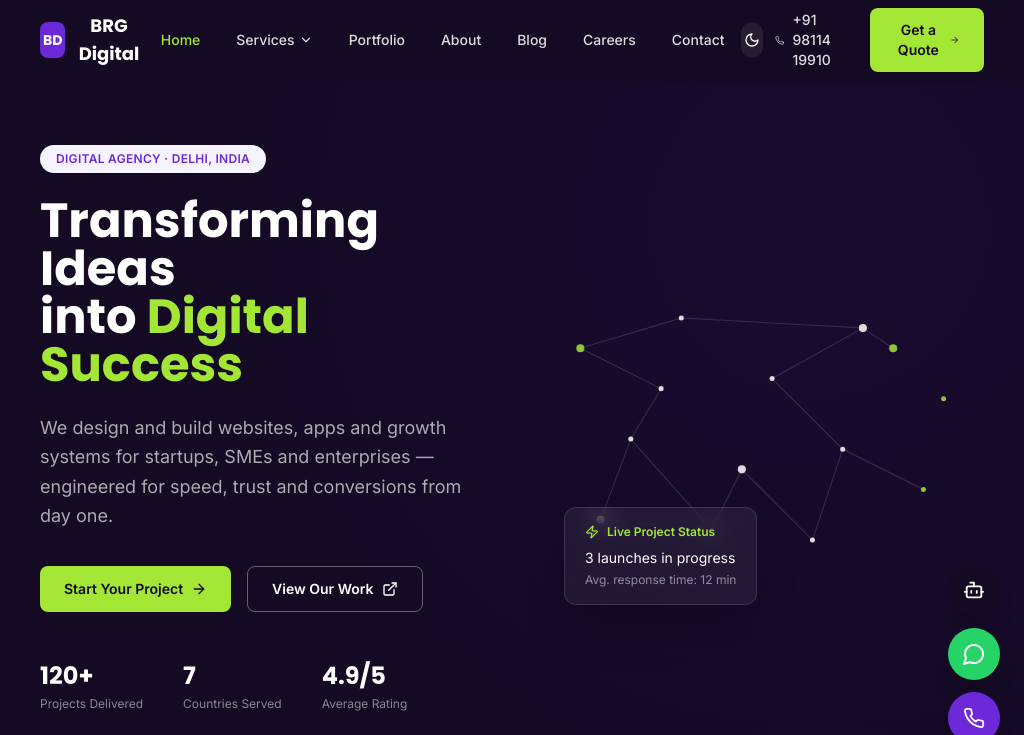
Contact form › submits successfully and shows a confirmation when the API succeeds
The width and height of the screenshot is (1024, 735).
Click the button "Contact" at (698, 40), box [656,22,741,58]
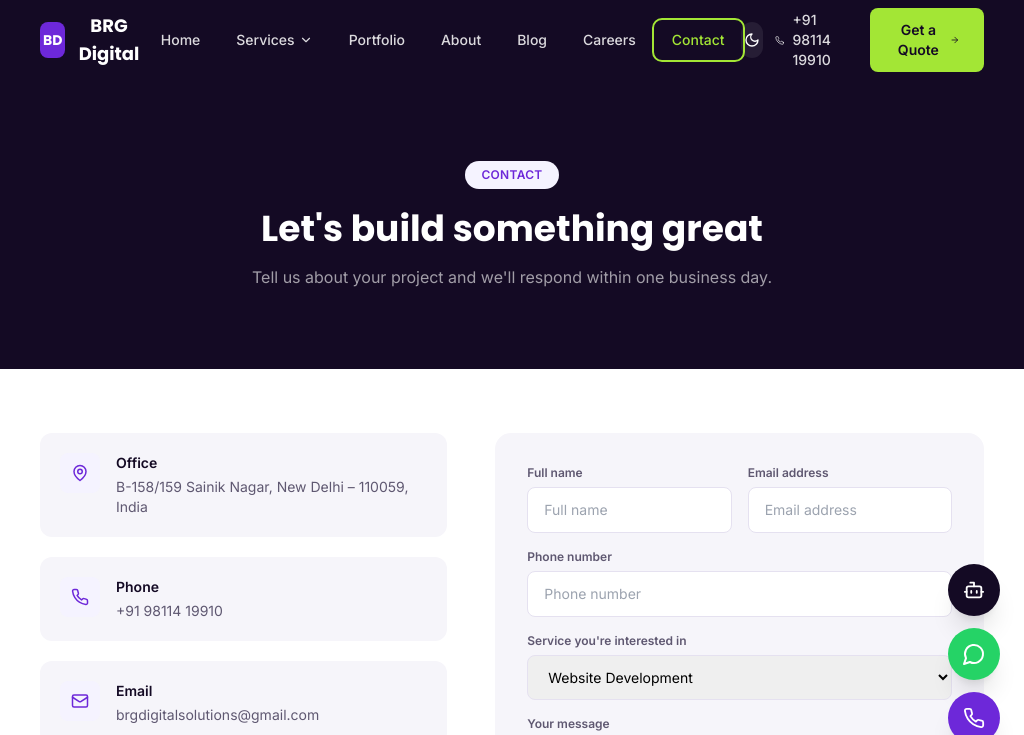
Type "Test User" into the field labelled "Full name" at (630, 510), box [527,487,732,533]
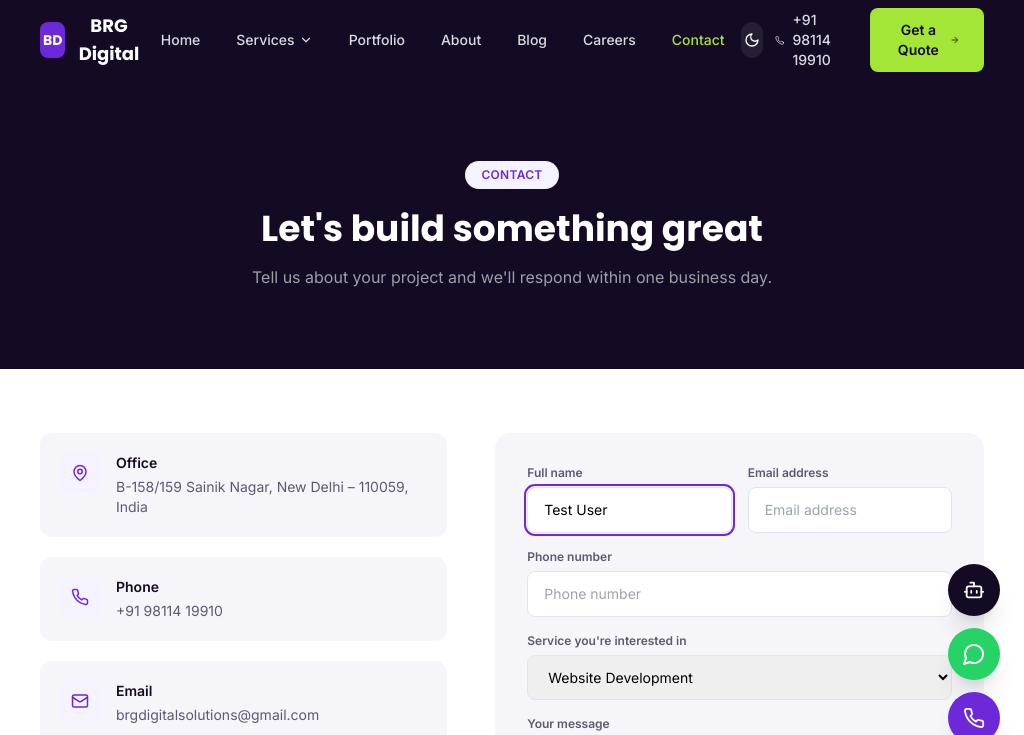
Type "test@example.com" into the field labelled "Email address" at (850, 510), box [748,487,952,533]
(page scrolled)
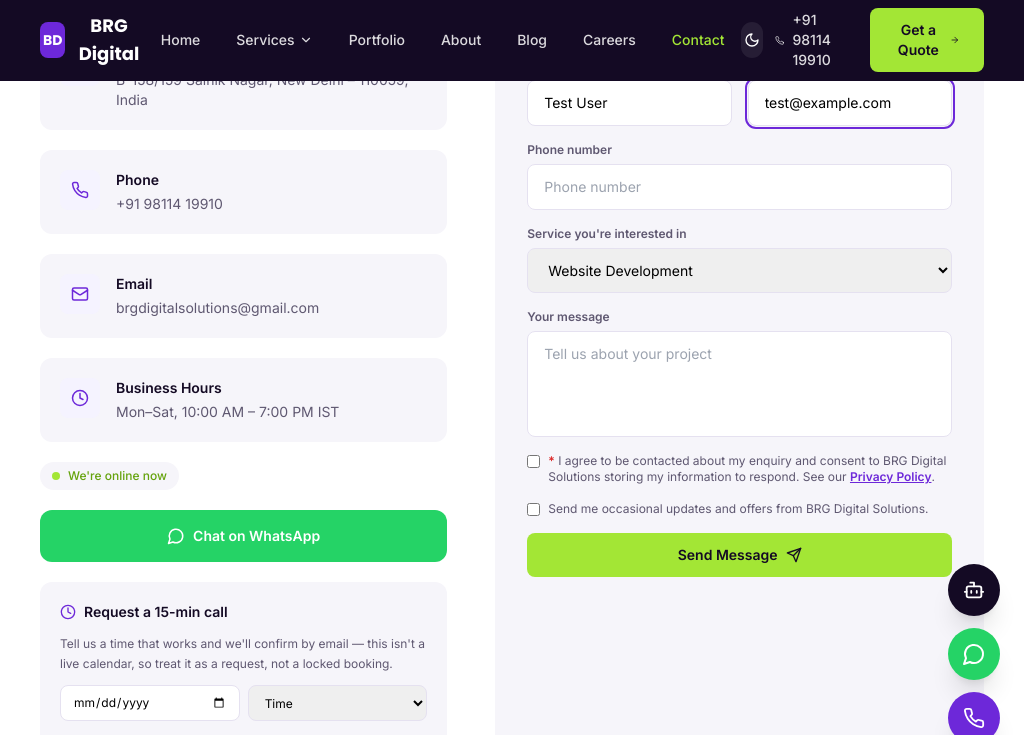
Type "Hello, I need a website." into the text box labelled "Your message" at (740, 384), box [527,331,952,437]
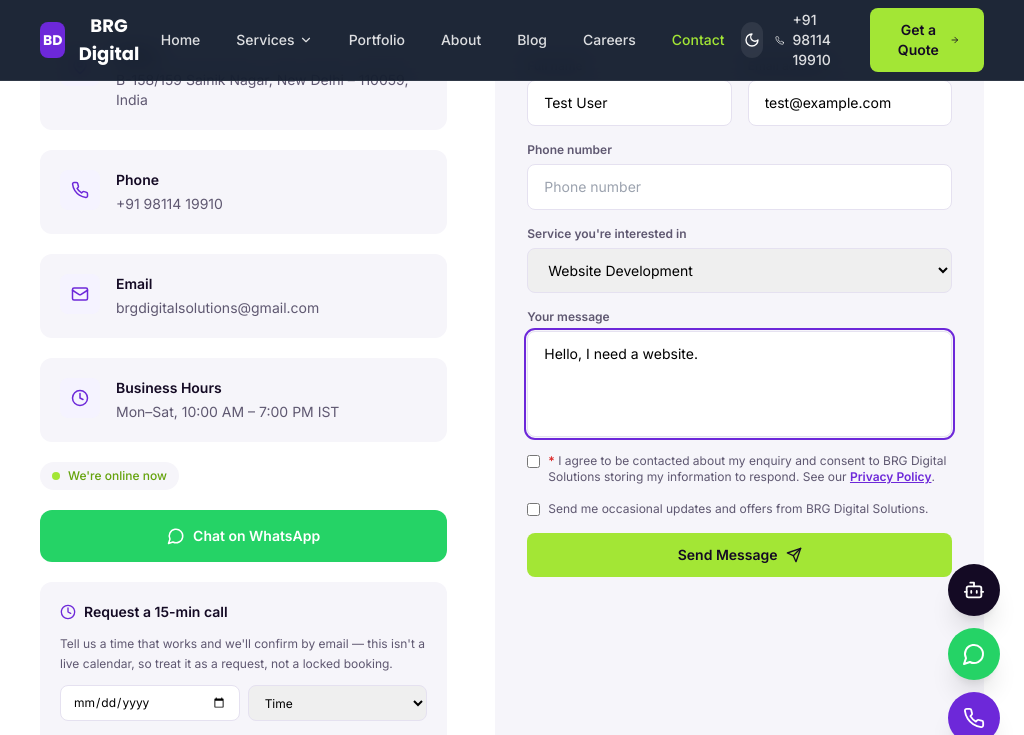
Click the checkbox labelled "I agree to be contacted" at (534, 462), box [527,455,540,468]
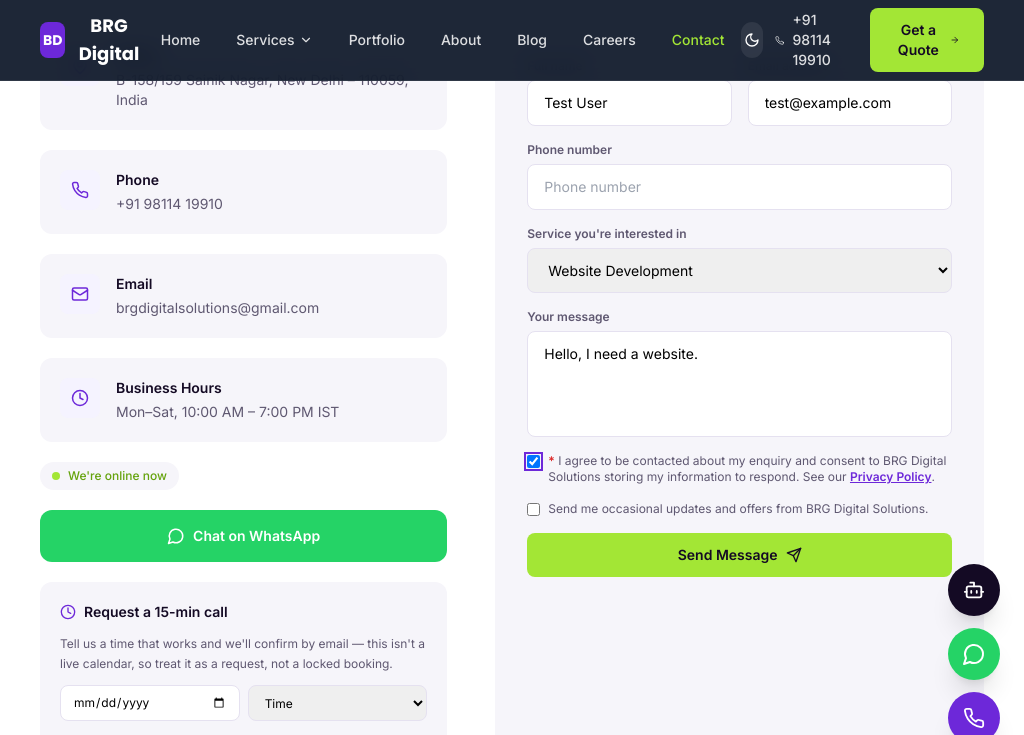
Click the button "Send Message" at (740, 555), box [527,533,952,577]
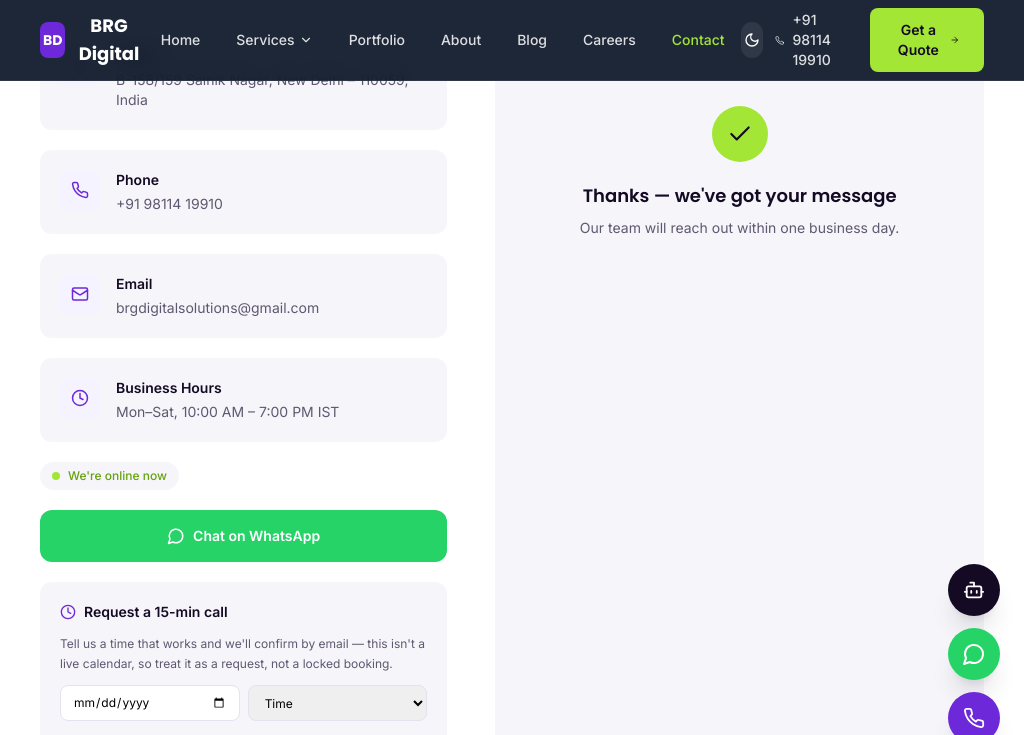
Result: the text "Thanks — we've got your message" is shown at [583,183,896,208]
